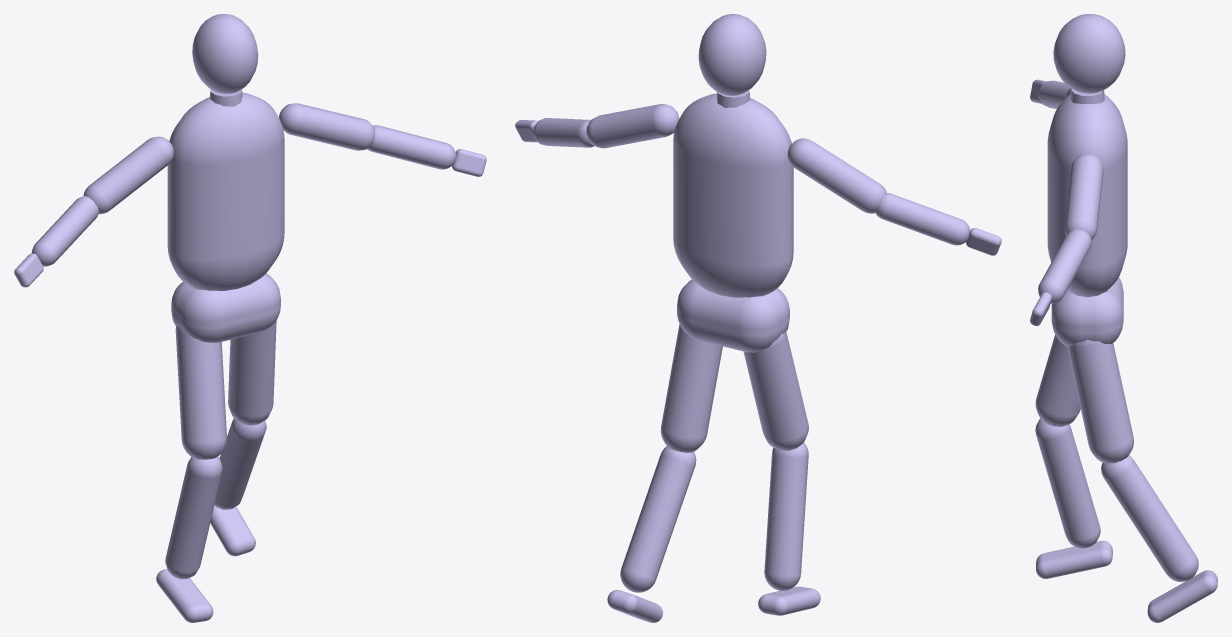
The model's file is mannequin-tread.glb.
3 views of the same model, side by side, from view 1: azimuth 30°, elevation 25°; view 2: azimuth 150°, elevation 25°; view 3: azimuth 270°, elevation 25° (orthographic). The views are drawn at different scales.
Visible parts, largest first — view 1: chest, thighR, pelvis, shinR, headMesh, thighL, upperArmR, upperArmL, shinL, foreArmL, foreArmR, footR (+3 smaller); view 2: chest, pelvis, shinL, thighL, shinR, thighR, headMesh, upperArmR, upperArmL, foreArmR, foreArmL, footR (+2 smaller); view 3: chest, thighL, shinL, headMesh, shinR, pelvis, thighR, upperArmL, foreArmL, footR, footL, foreArmR (+2 smaller).
Part boxes in pixels (<box>): chest: <box>167,92,284,290</box>; thighR: <box>175,326,226,459</box>; pelvis: <box>171,273,280,342</box>; shinR: <box>165,456,222,579</box>; headMesh: <box>192,14,258,93</box>; thighL: <box>228,320,276,425</box>; upperArmR: <box>83,136,173,214</box>; upperArmL: <box>279,103,375,150</box>; shinL: <box>214,418,266,509</box>; foreArmL: <box>367,125,456,169</box>; foreArmR: <box>31,196,98,266</box>; footR: <box>156,569,213,622</box>; chest: <box>673,93,793,297</box>; pelvis: <box>677,279,789,352</box>; shinL: <box>620,446,696,592</box>; thighL: <box>660,324,722,452</box>; shinR: <box>764,442,808,590</box>; thighR: <box>743,331,808,450</box>; headMesh: <box>698,14,766,95</box>; upperArmR: <box>787,138,886,213</box>; upperArmL: <box>586,104,679,148</box>; foreArmR: <box>875,193,970,245</box>; foreArmL: <box>533,118,594,147</box>; footR: <box>758,586,820,615</box>; chest: <box>1047,94,1127,297</box>; thighL: <box>1067,340,1133,463</box>; shinL: <box>1101,455,1198,581</box>; headMesh: <box>1053,14,1125,93</box>; shinR: <box>1035,418,1100,548</box>; pelvis: <box>1051,277,1123,346</box>; thighR: <box>1035,334,1080,426</box>; upperArmL: <box>1064,153,1103,240</box>; foreArmL: <box>1038,229,1091,303</box>; footR: <box>1036,540,1112,578</box>; footL: <box>1147,570,1217,622</box>; foreArmR: <box>1038,80,1070,109</box>.
Bounding box in the file's own units: 1.67 × 1.96 × 0.5724.
